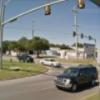cars: (54, 66, 98, 92)
